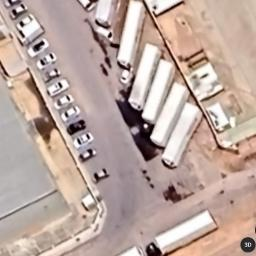SUV: (46, 77, 70, 99)
sedan: (26, 38, 50, 58), (35, 52, 58, 72), (36, 67, 62, 84), (72, 130, 94, 150), (63, 118, 87, 136), (88, 167, 112, 184), (60, 104, 82, 122), (14, 13, 37, 30), (52, 94, 75, 110), (78, 146, 98, 164), (8, 4, 30, 20), (120, 62, 134, 86), (2, 0, 23, 9)
truck: (141, 207, 220, 256), (16, 19, 48, 46), (72, 0, 97, 12)
van: (95, 24, 115, 46)
